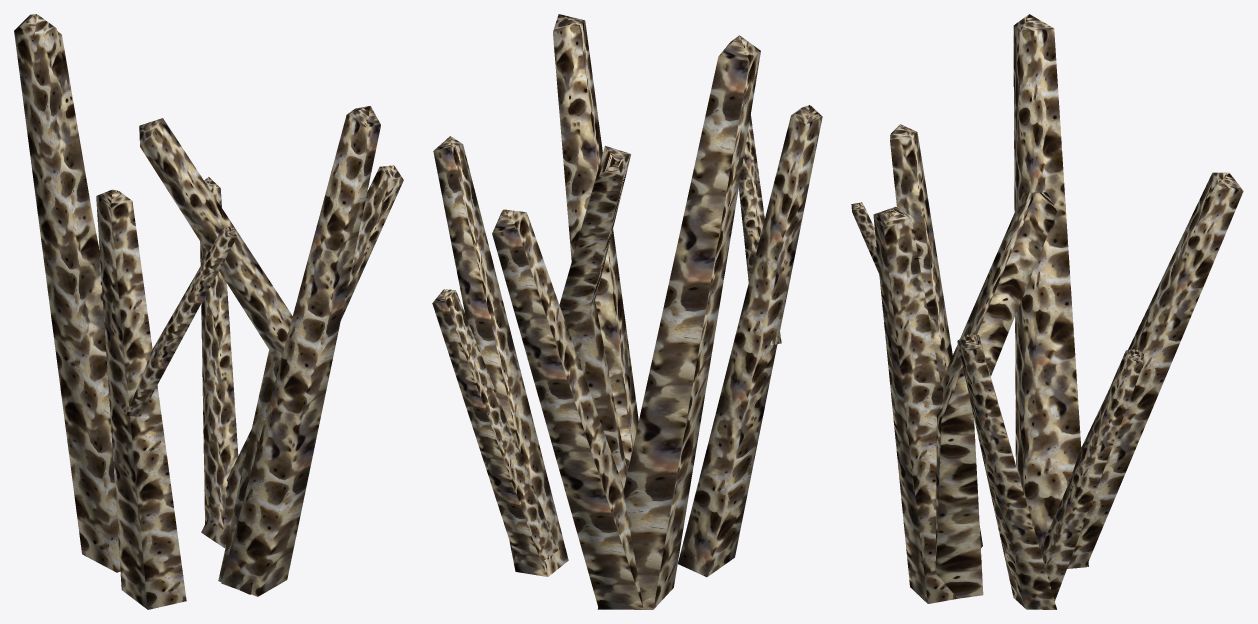
Rendered from CoralStone-06_LOD2.fbx.
The picture shows the model from 3 angles, left to right: view 1: azimuth 30°, elevation 25°; view 2: azimuth 150°, elevation 25°; view 3: azimuth 270°, elevation 25°; orthographic projection. The views are drawn at different scales.
Visible parts, largest first — view 1: CoralStone-06_veryLow; view 2: CoralStone-06_veryLow; view 3: CoralStone-06_veryLow.
Boxes of the visible parts, x1,y1,x2,y2 form: CoralStone-06_veryLow: (14, 14, 403, 609); CoralStone-06_veryLow: (432, 14, 822, 609); CoralStone-06_veryLow: (851, 14, 1243, 609).
Bounding box in the file's own units: 0.2534 × 0.3984 × 0.2795.
